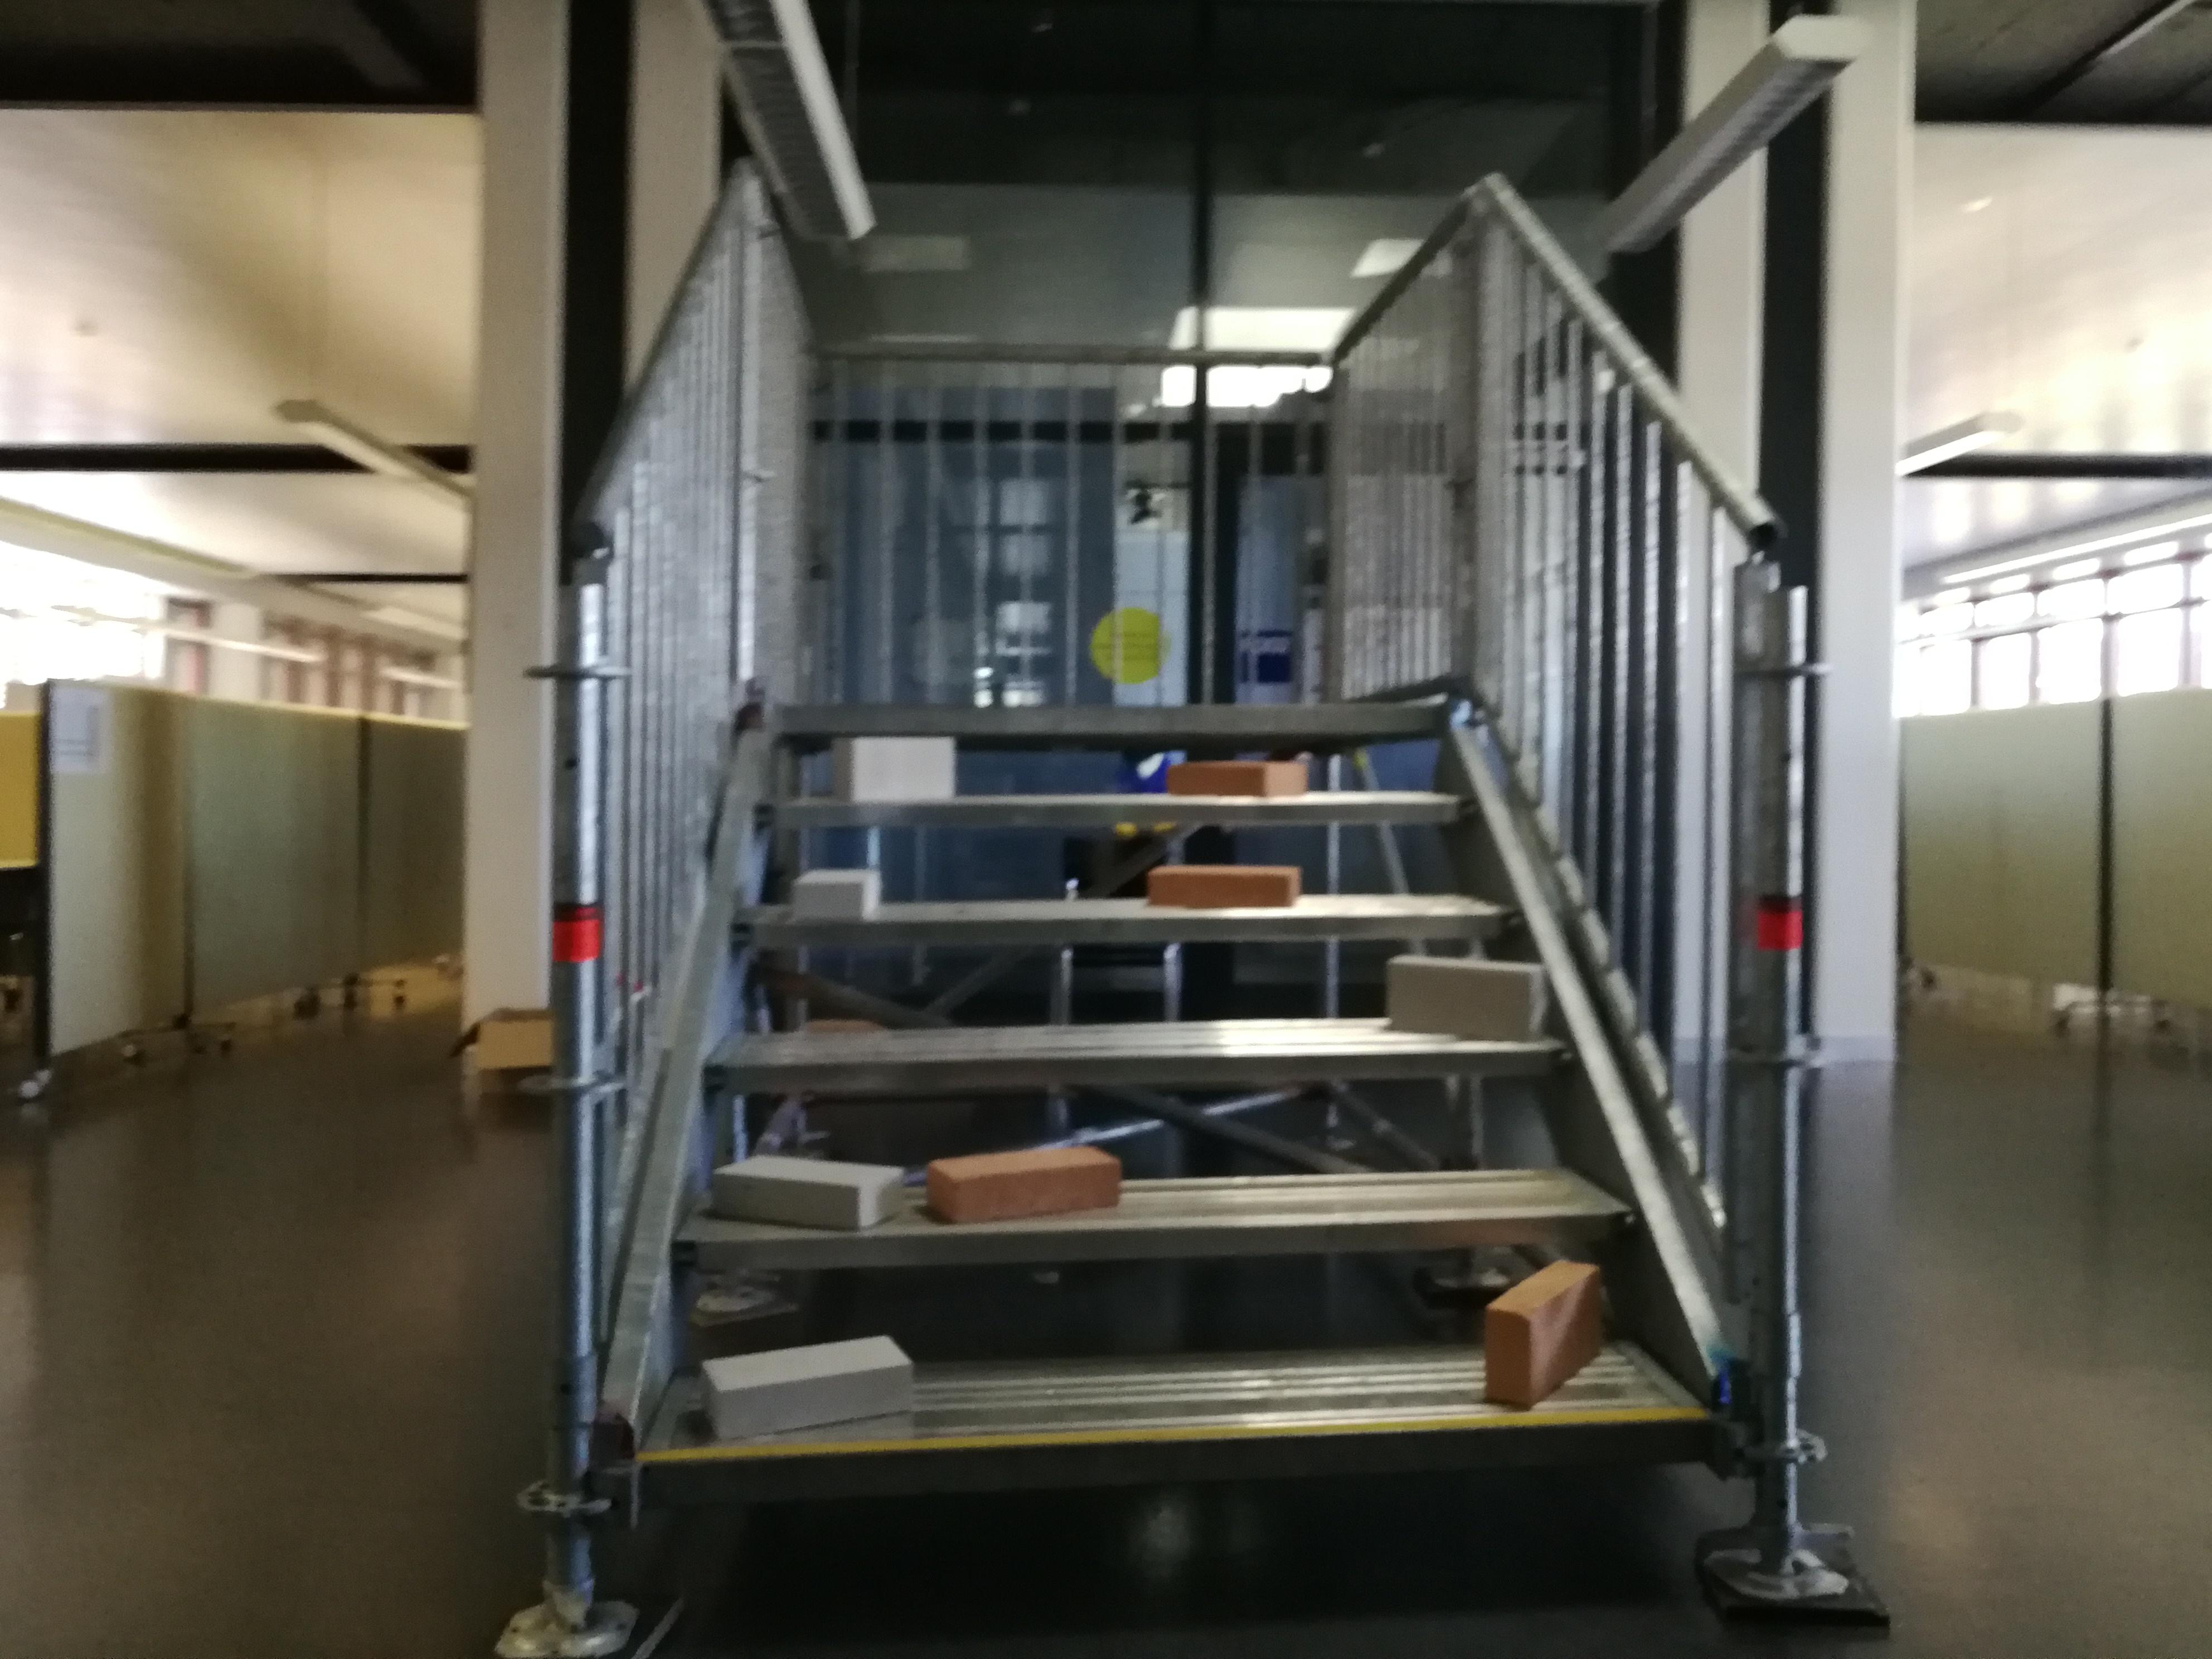brick: (704, 1337, 909, 1441), (1493, 1258, 1599, 1406), (714, 1150, 906, 1230), (930, 1148, 1115, 1220), (1390, 957, 1545, 1037), (831, 739, 953, 798), (1146, 866, 1299, 908), (1167, 762, 1306, 793), (796, 870, 874, 915)
edge: (646, 1415, 1719, 1502), (669, 1211, 1641, 1269), (700, 1044, 1575, 1093), (733, 911, 1517, 939), (751, 795, 1477, 824), (777, 704, 1451, 732)
stairs: (486, 157, 1897, 1650)
steps: (636, 681, 1728, 1513)
